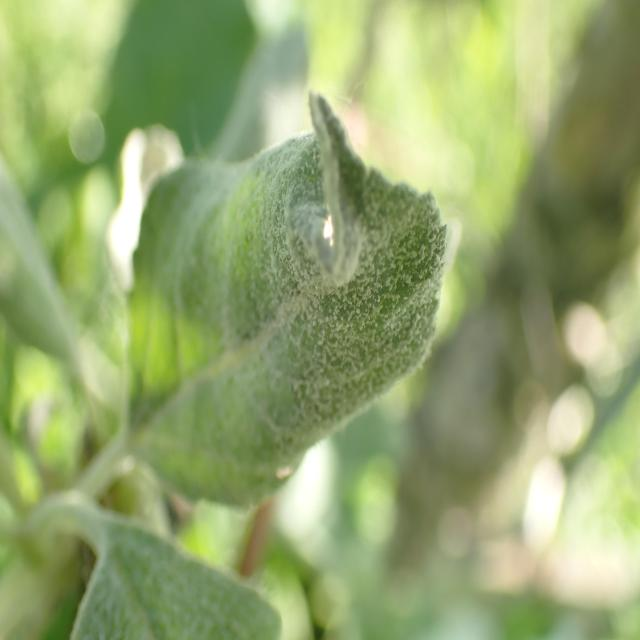Powdery_mildew: (136, 73, 456, 508)
